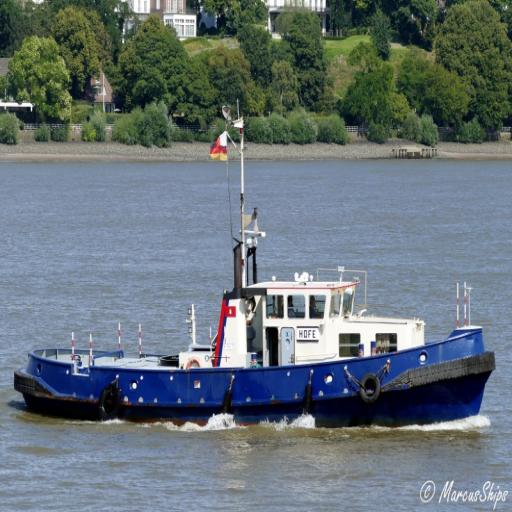tugboat: (12, 97, 499, 442)
